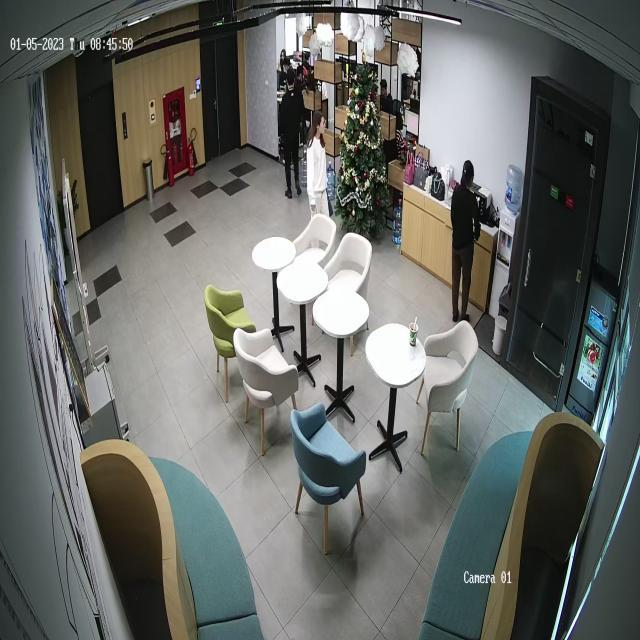person: (451, 158, 481, 323), (279, 68, 306, 199), (307, 111, 329, 218)
